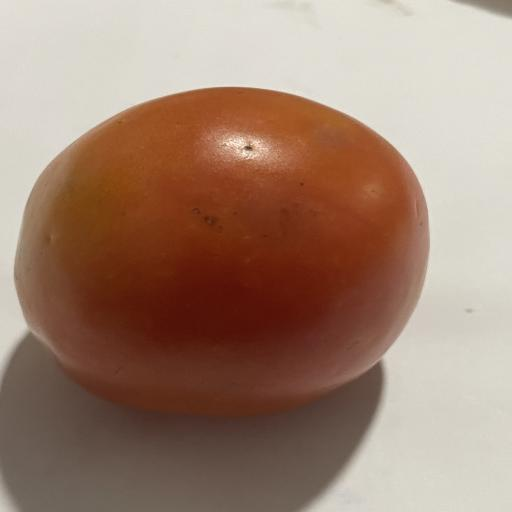ripe: (15, 87, 429, 415)
